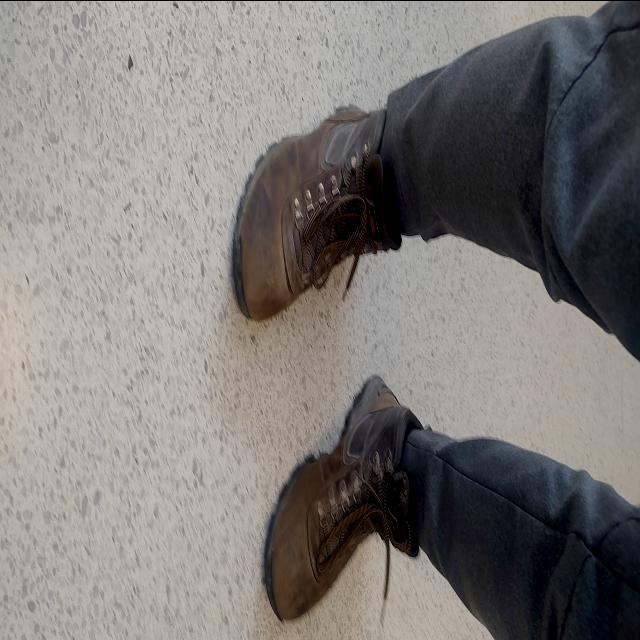Boots: (262, 366, 426, 640), (230, 90, 404, 324)
